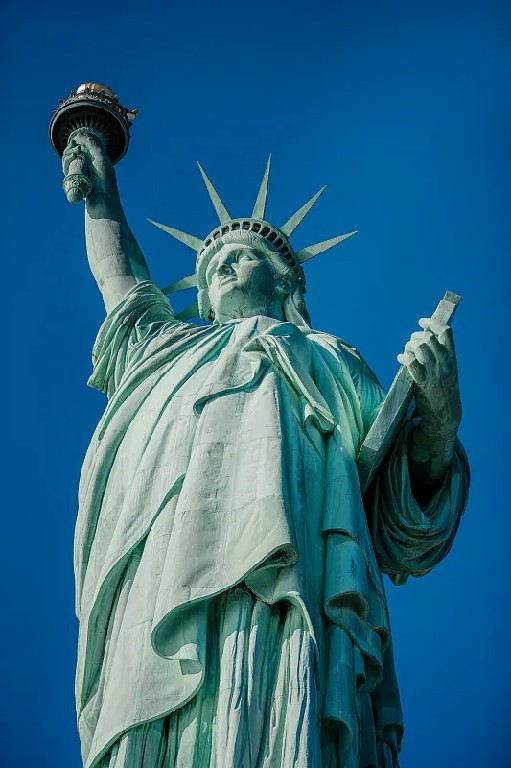SL: (49, 82, 470, 768)
